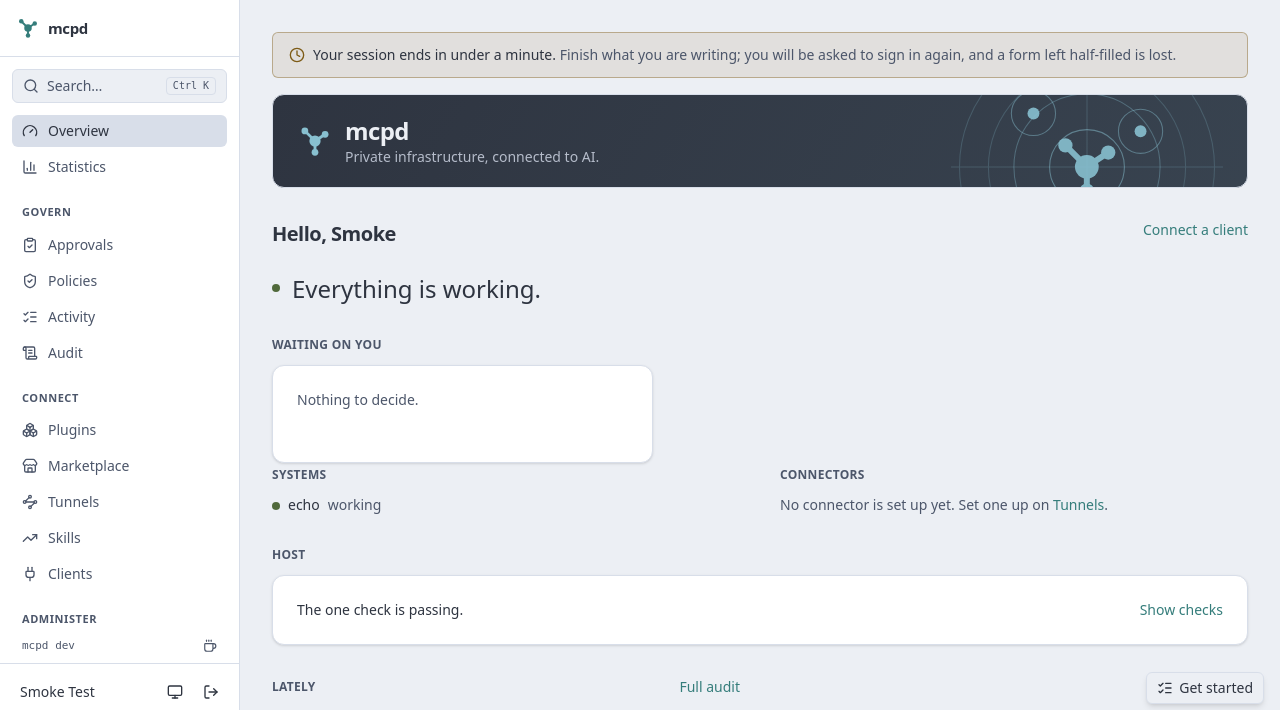
Test case: the console › navigates to a section and back without a reload
This screenshot has width=1280, height=710.
Click the link "Plugins".
click(59, 430)  # box top-left (22, 420), bottom-right (96, 439)
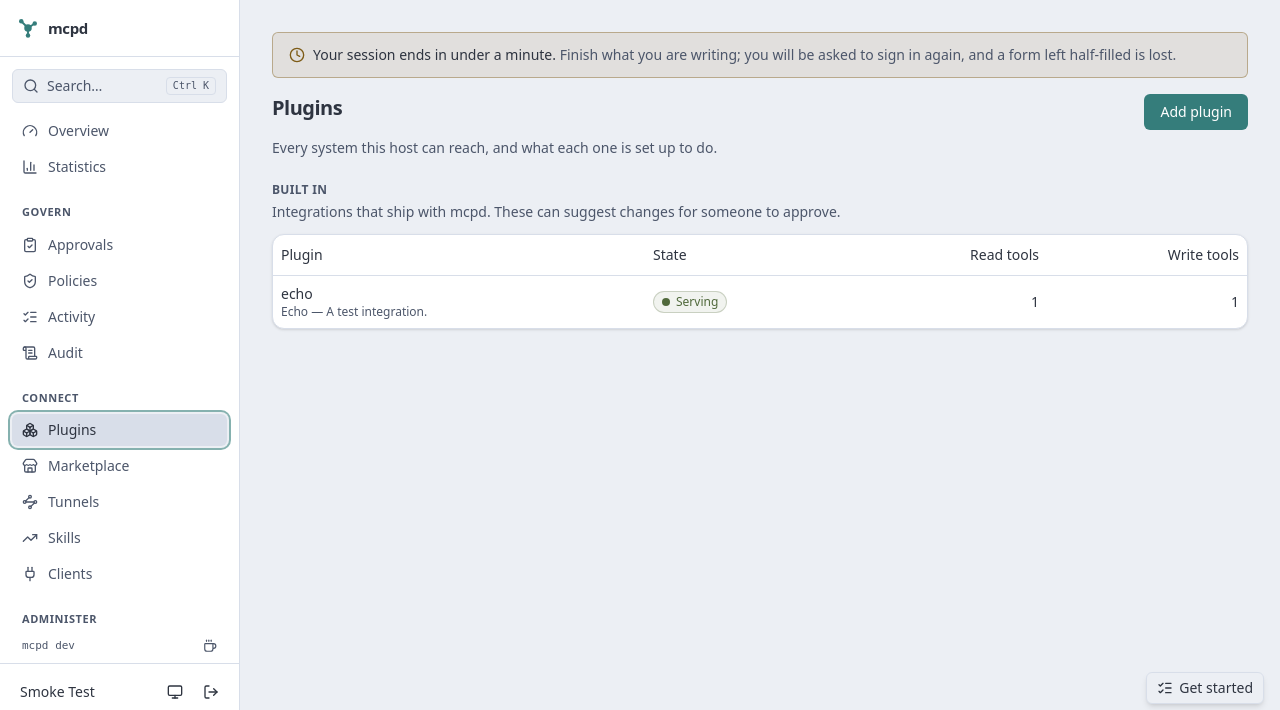
Expected: the heading "Built in" is shown, top-left (272, 181), bottom-right (327, 198)
Click the link "Audit".
click(52, 352)  # box top-left (22, 343), bottom-right (83, 362)
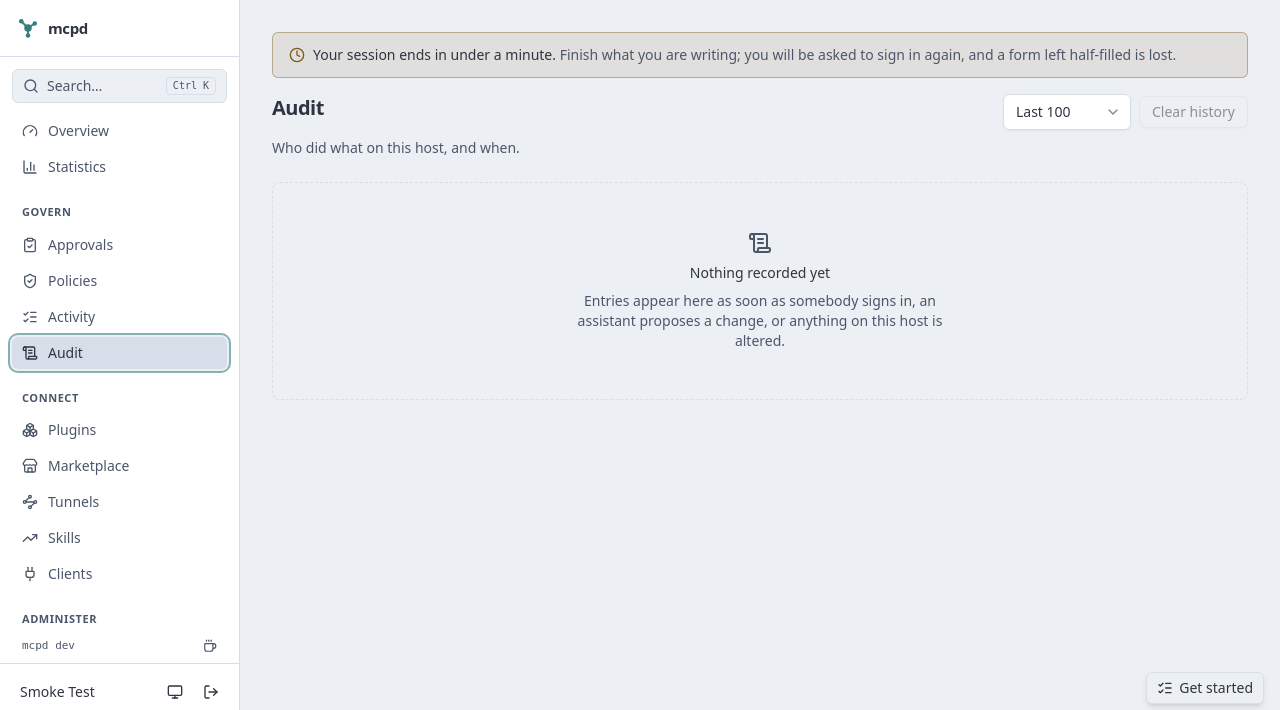
Expected: the heading "Nothing recorded yet" is shown, top-left (690, 263), bottom-right (830, 283)
